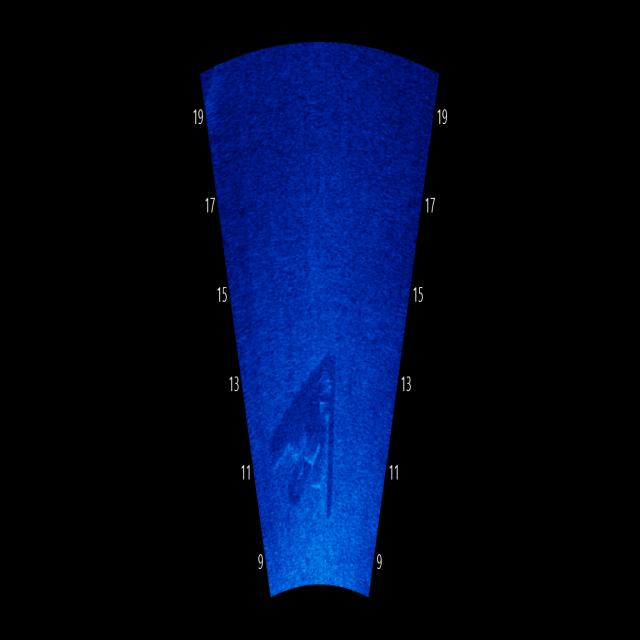triangle: (267, 334, 352, 537)
